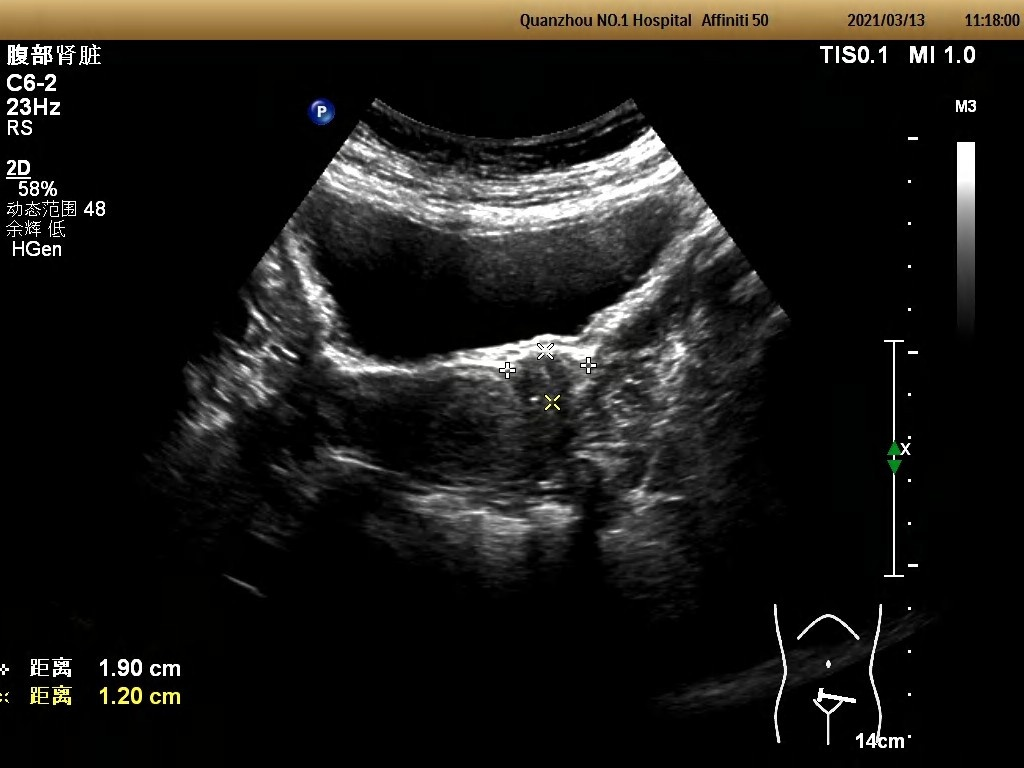肌瘤: (512, 361, 570, 396)
